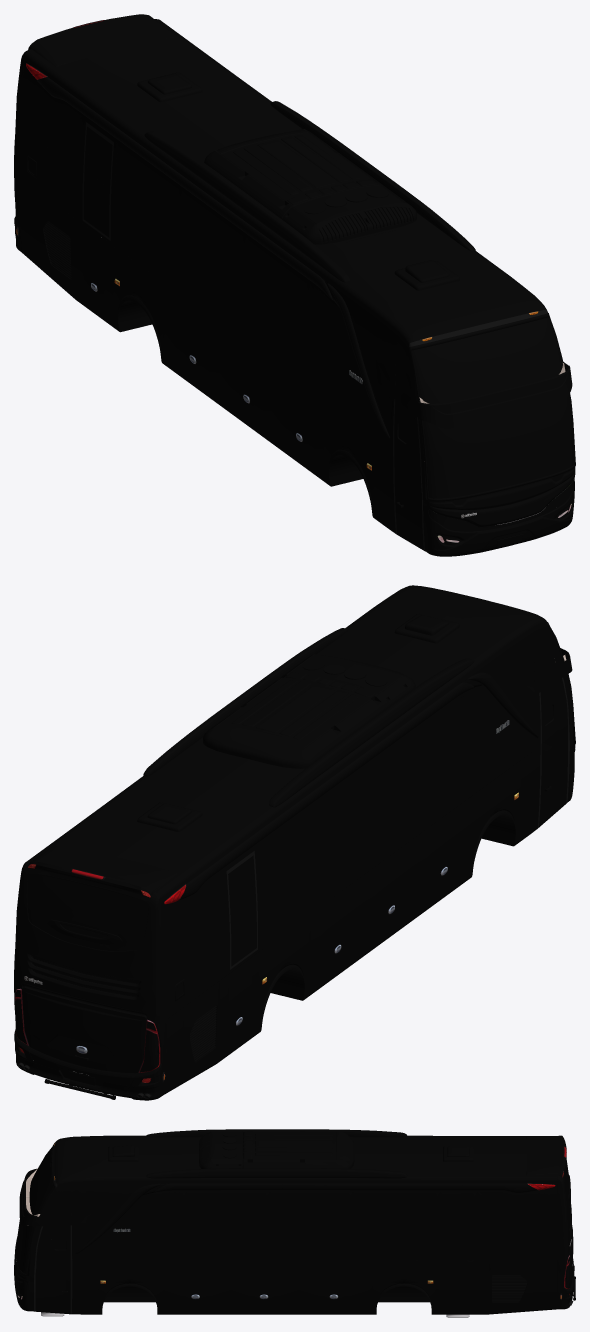
File: Bus.fbx
The picture shows the model from 3 angles, top to bottom: view 1: azimuth 30°, elevation 25°; view 2: azimuth 150°, elevation 25°; view 3: azimuth 270°, elevation 25°; orthographic projection. The views are drawn at different scales.
Parts seen in each view (by area): view 1: Model16.9, Model16.4, Model16.8, Model16.2, Model16.6; view 2: Model16.9, Model16.4, Model16.8, Model16.2, Model16.6, Model16.11; view 3: Model16.9, Model16.4, Model16.8, Model16.2.
Boxes of the visible parts, x1=… form: Model16.9: x1=14, y1=14, x2=575, y2=556; Model16.4: x1=29, y1=84, x2=574, y2=498; Model16.8: x1=15, y1=14, x2=575, y2=551; Model16.2: x1=175, y1=185, x2=419, y2=490; Model16.6: x1=428, y1=477, x2=574, y2=531; Model16.9: x1=14, y1=585, x2=575, y2=1100; Model16.4: x1=30, y1=633, x2=565, y2=953; Model16.8: x1=15, y1=614, x2=575, y2=1099; Model16.2: x1=27, y1=694, x2=566, y2=950; Model16.6: x1=15, y1=753, x2=574, y2=1073; Model16.11: x1=31, y1=955, x2=139, y2=996; Model16.9: x1=14, y1=1129, x2=574, y2=1314; Model16.4: x1=16, y1=1147, x2=568, y2=1273; Model16.8: x1=15, y1=1132, x2=575, y2=1317; Model16.2: x1=38, y1=1167, x2=570, y2=1273.
Size of the model in its own units: 265 by 382 by 1284.
